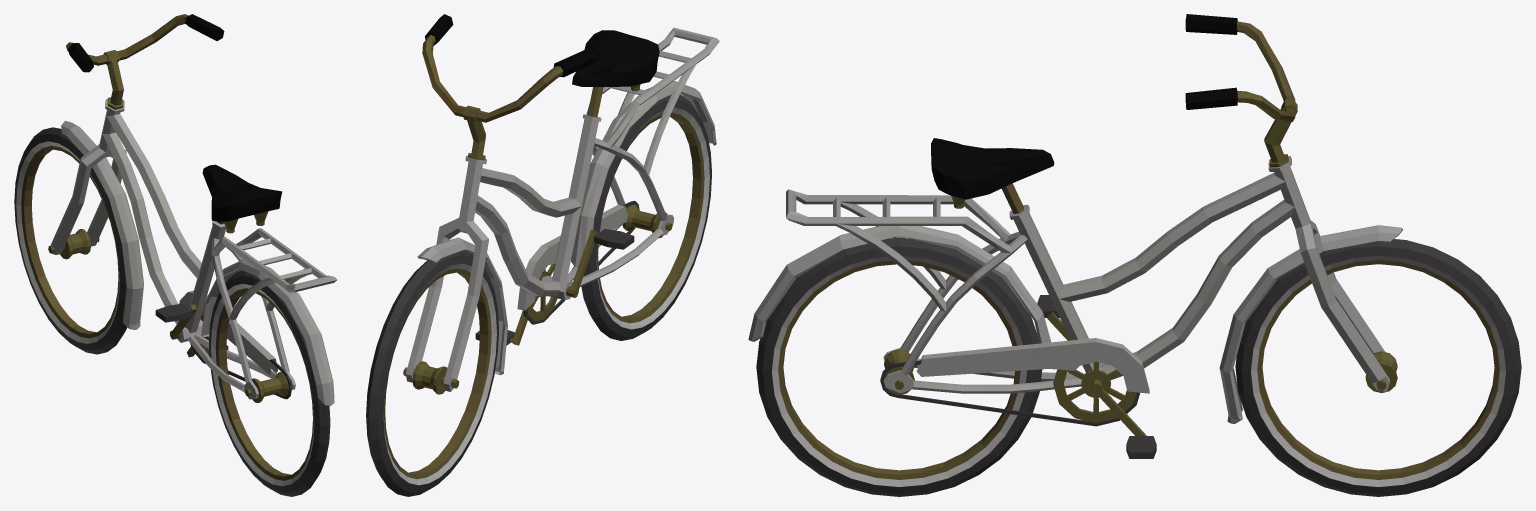
Rendered from bicycle0.fbx.
3 renders of one model, left to right at view 1: azimuth 30°, elevation 25°; view 2: azimuth 150°, elevation 25°; view 3: azimuth 270°, elevation 25°, orthographic. The views are drawn at different scales.
Parts seen in each view (by area): view 1: SM_Bicycle_01.mo; view 2: SM_Bicycle_01.mo; view 3: SM_Bicycle_01.mo.
Boxes of the visible parts, bbox=[...] form: SM_Bicycle_01.mo: bbox=[14, 14, 337, 496]; SM_Bicycle_01.mo: bbox=[366, 14, 719, 496]; SM_Bicycle_01.mo: bbox=[748, 14, 1521, 496].
Size of the model in its own units: 50.56 by 121 by 192.
